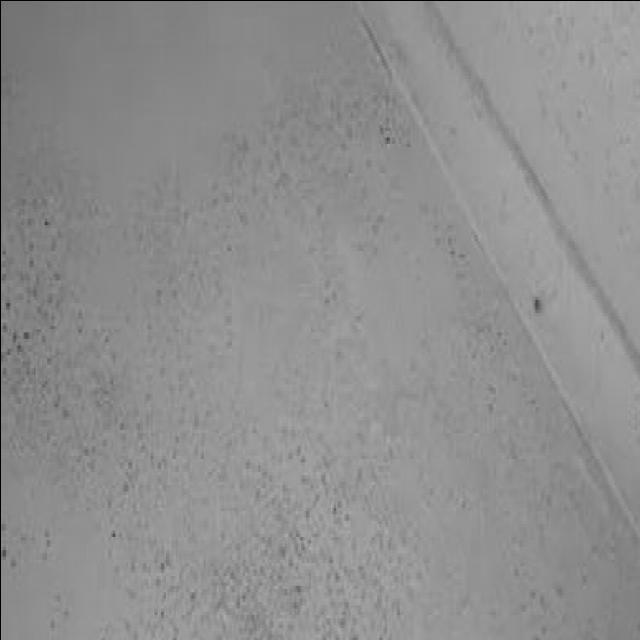stain marks: (3, 57, 640, 640)
